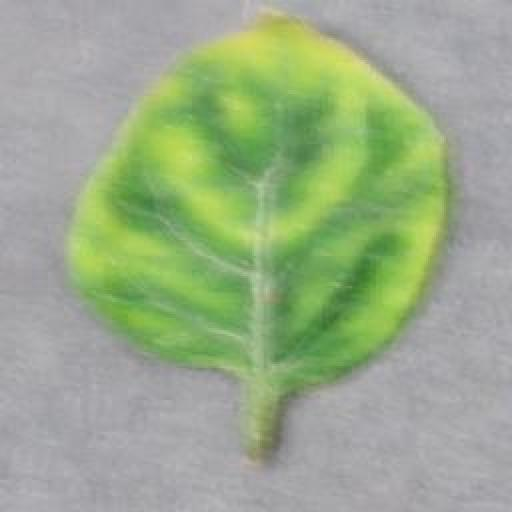Yellow Leaf Curl Virus: (62, 19, 444, 392)
